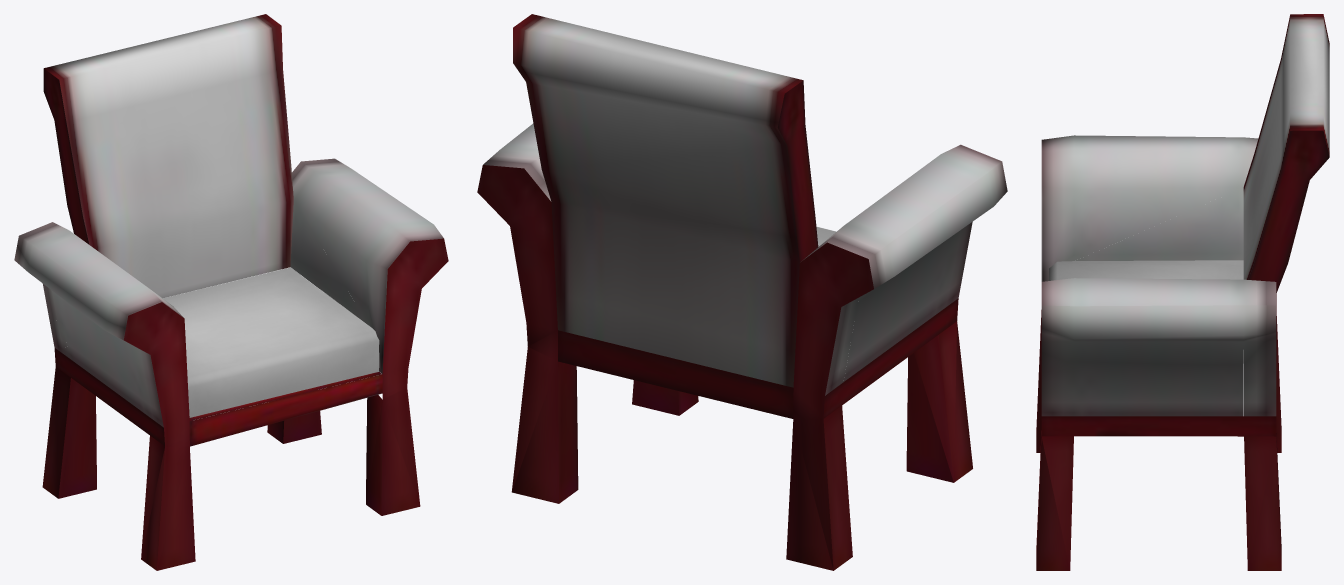
The model's file is chairAdesat.glb.
The picture shows the model from 3 angles, left to right: view 1: azimuth 30°, elevation 25°; view 2: azimuth 150°, elevation 25°; view 3: azimuth 270°, elevation 25°; orthographic projection. The views are drawn at different scales.
Parts seen in each view (by area): view 1: cushion1, cushion, arm, arm1, frontleg, frontleg1, backleg1, woodpiece4, backside, woodpiece1, backleg; view 2: cushion1, arm1, backleg1, backleg, frontleg, woodpiece, backside, woodpiece1, arm, frontleg1; view 3: arm, arm1, cushion1, backside1, woodpiece2, frontleg1, backleg, cushion, backleg1, frontleg.
Part boxes in pixels (x1,y1,x2,y2): cushion1: (44, 14, 293, 298); cushion: (163, 267, 379, 417); arm: (290, 158, 443, 373); arm1: (14, 222, 184, 427); frontleg: (124, 302, 195, 570); frontleg1: (366, 238, 448, 515); backleg1: (42, 367, 96, 498); woodpiece4: (189, 372, 382, 446); backside: (43, 68, 89, 244); woodpiece1: (54, 348, 164, 445); backleg: (267, 411, 321, 443); cushion1: (513, 14, 803, 387); arm1: (801, 144, 1007, 395); backleg1: (786, 242, 873, 570); backleg: (477, 165, 578, 503); frontleg: (906, 321, 972, 482); woodpiece: (558, 330, 793, 418); backside: (777, 80, 818, 262); woodpiece1: (823, 298, 958, 418); arm: (483, 123, 551, 201); frontleg1: (632, 380, 698, 415); arm: (1041, 278, 1276, 416); arm1: (1041, 135, 1258, 281); cushion1: (1243, 14, 1329, 279); backside1: (1248, 130, 1329, 293); woodpiece2: (1041, 416, 1276, 436); frontleg1: (1036, 430, 1073, 570); backleg: (1244, 433, 1281, 570); cushion: (1049, 260, 1243, 363); backleg1: (1276, 294, 1281, 452); frontleg: (1036, 310, 1041, 452).
Bounding box in the file's own units: 3.93 × 4.49 × 2.78.
Materials: 7 (7 with a texture image).
